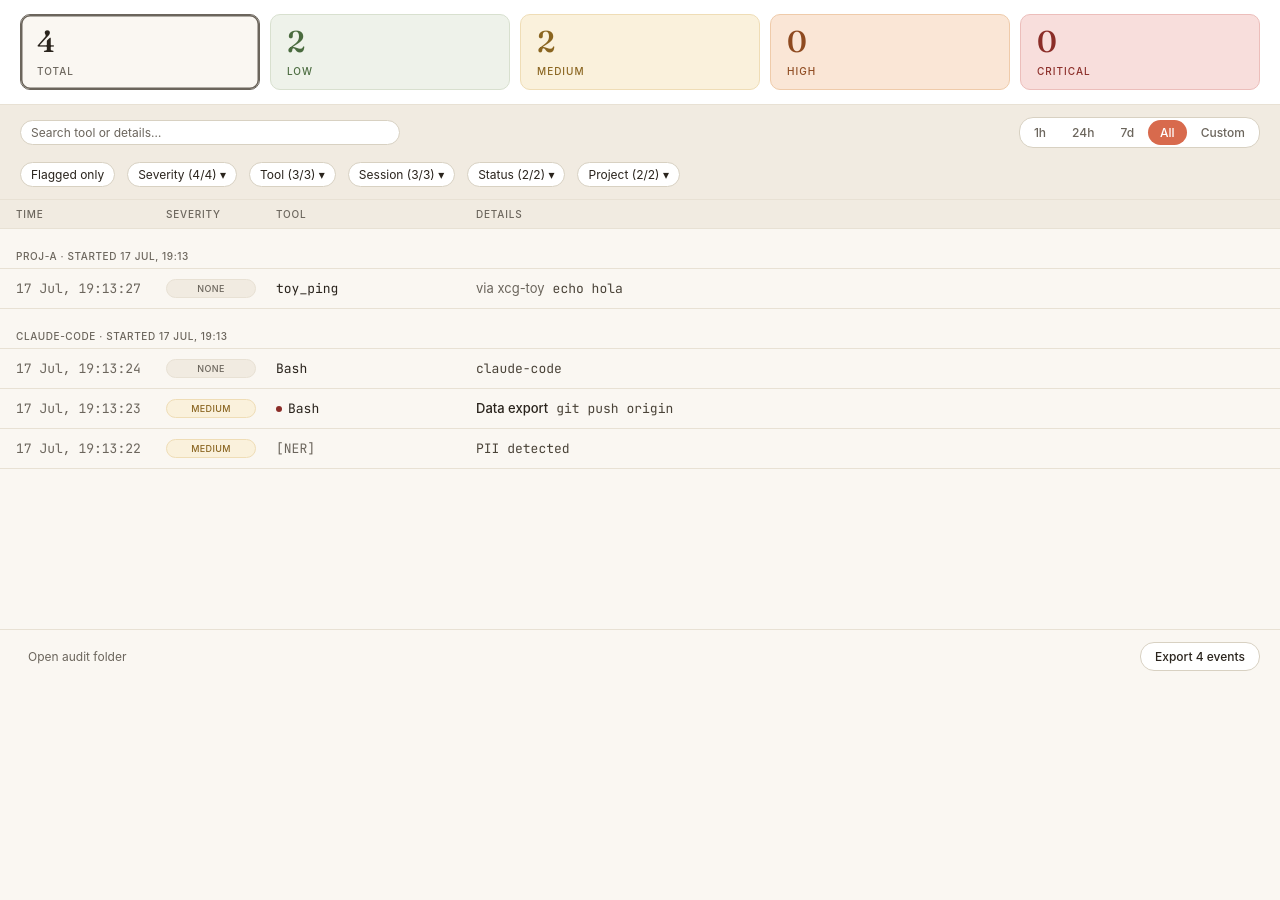
Test: ClaudeCode — delta final (search, status, custom range, server session labels) › session labels come from the SERVER facet: a session absent from the page still gets its human label
Click the button "Session (3/3) ▾" at [402, 174], box [348,162,455,187]
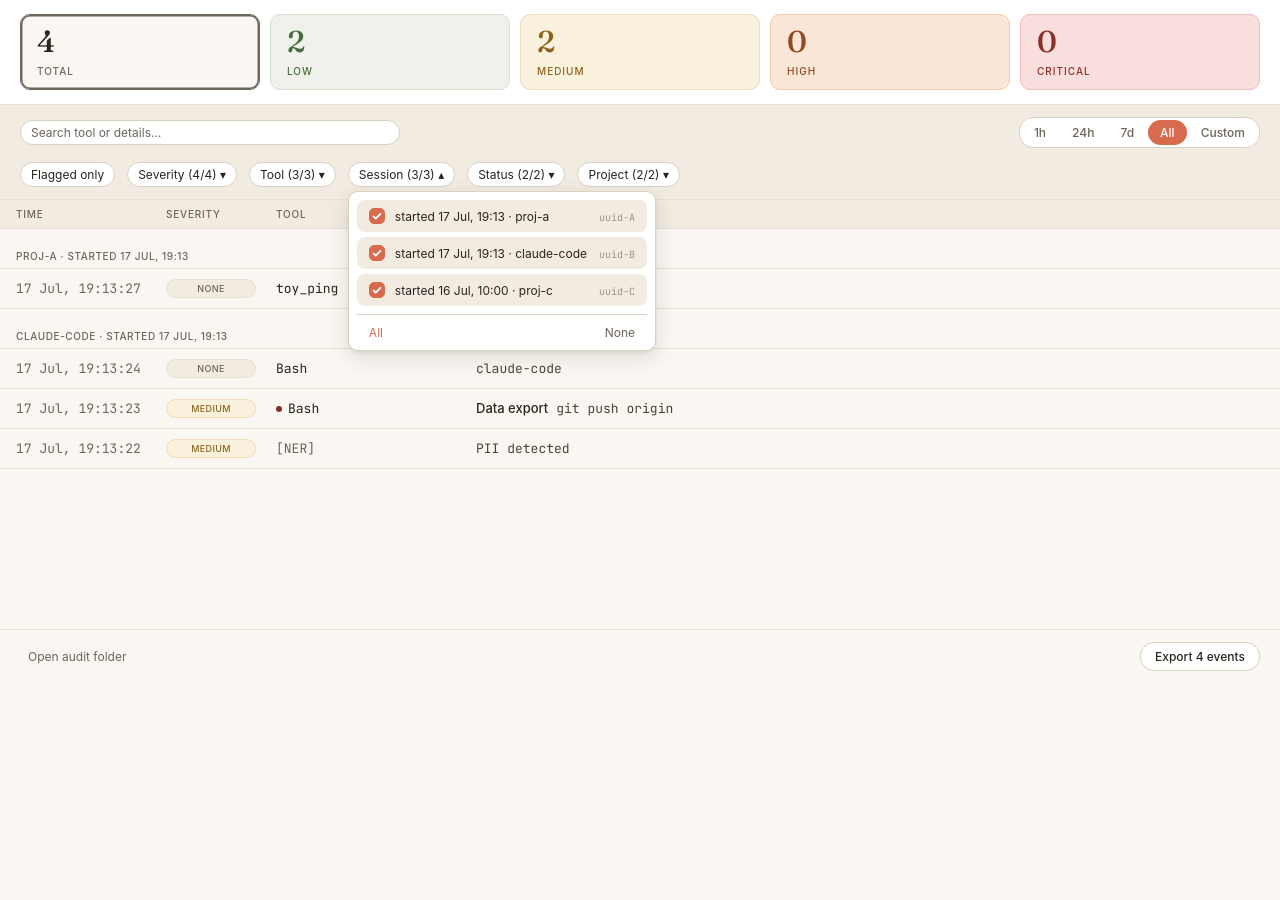
Expected: the checkbox labelled "started 16 Jul, 10:00 · proj-c uuid-C" is shown, [369,282,385,298]
